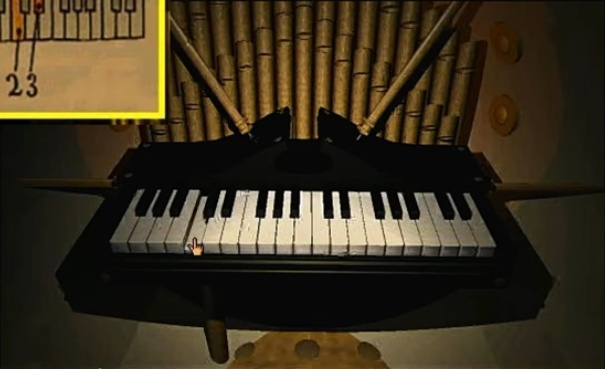Pointer: (184, 233, 208, 259)
